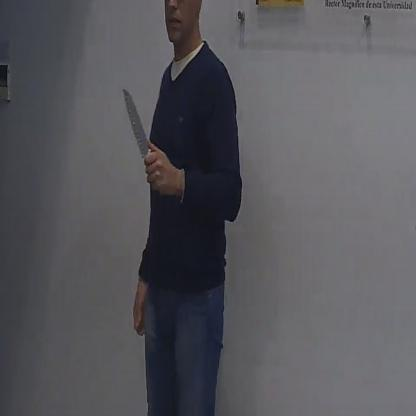knife: (121, 84, 162, 189)
